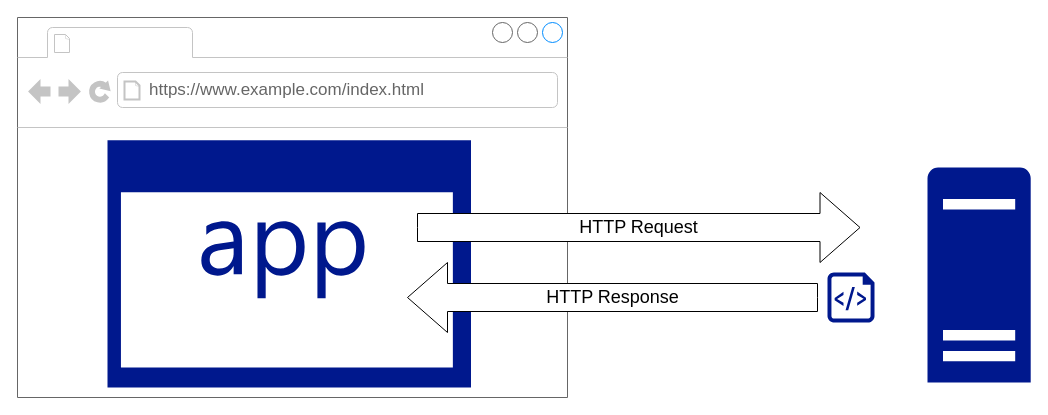
Some shapes in this 1048 by 415 pixel diagram are drawn without their labels. Each missing label, with the centre of its shape:
data.json: [850,297]
Example App: [132,42]
